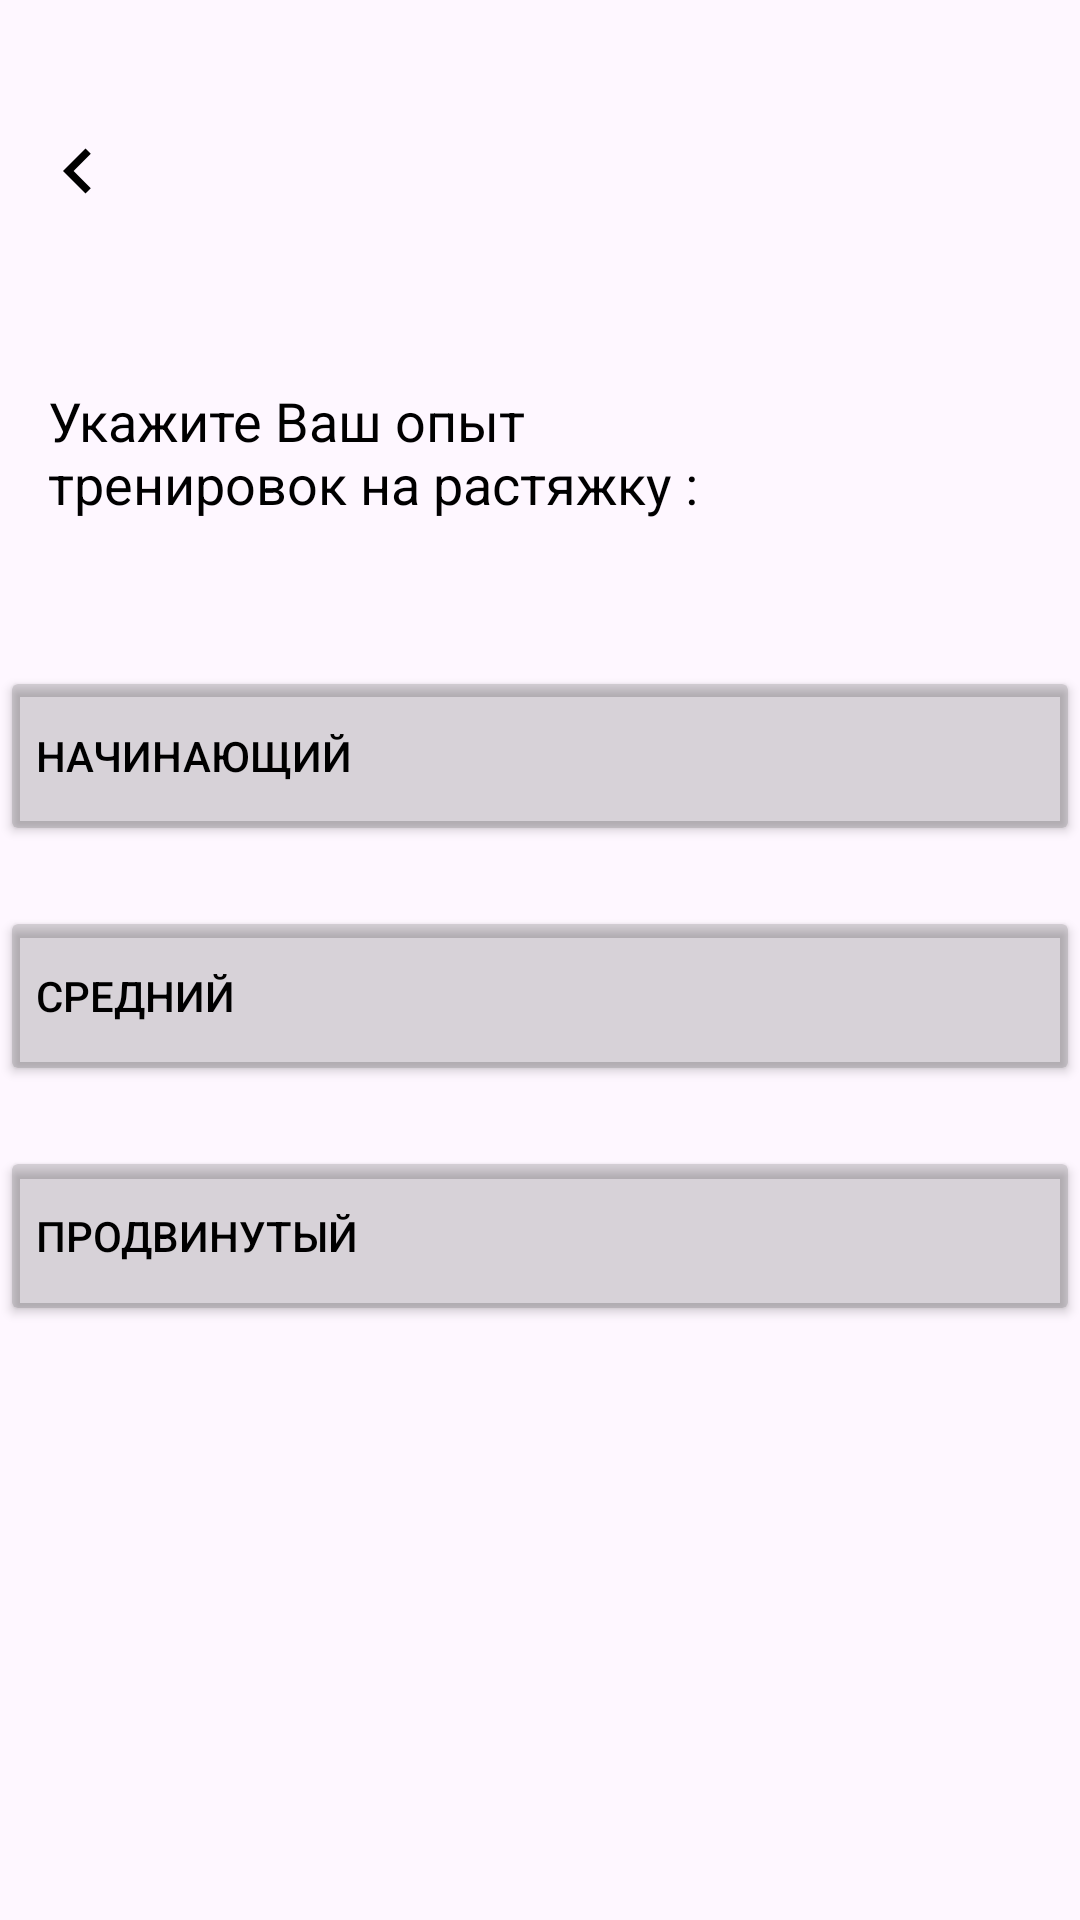

Named icons in this screenshot (1080w x 1920h) and their centers, (x=x, y=y):
Нажмите, если хотите вернуться на предыдущий экран: (x=77, y=171)
